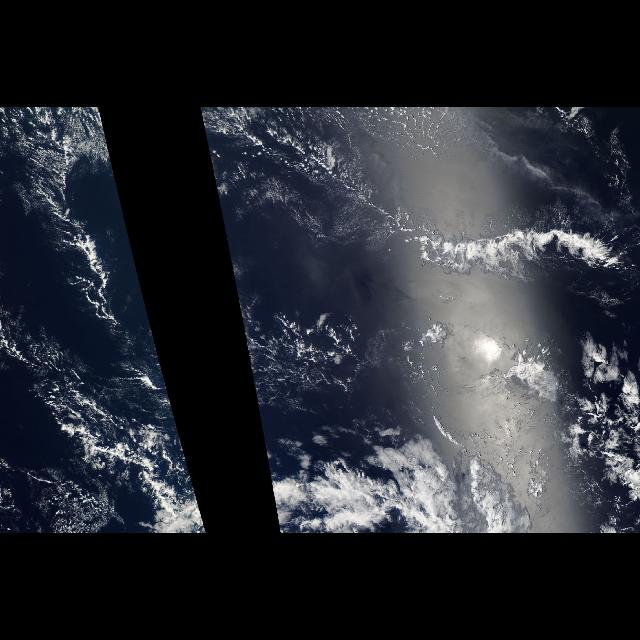Fish: (380, 179, 640, 309)
